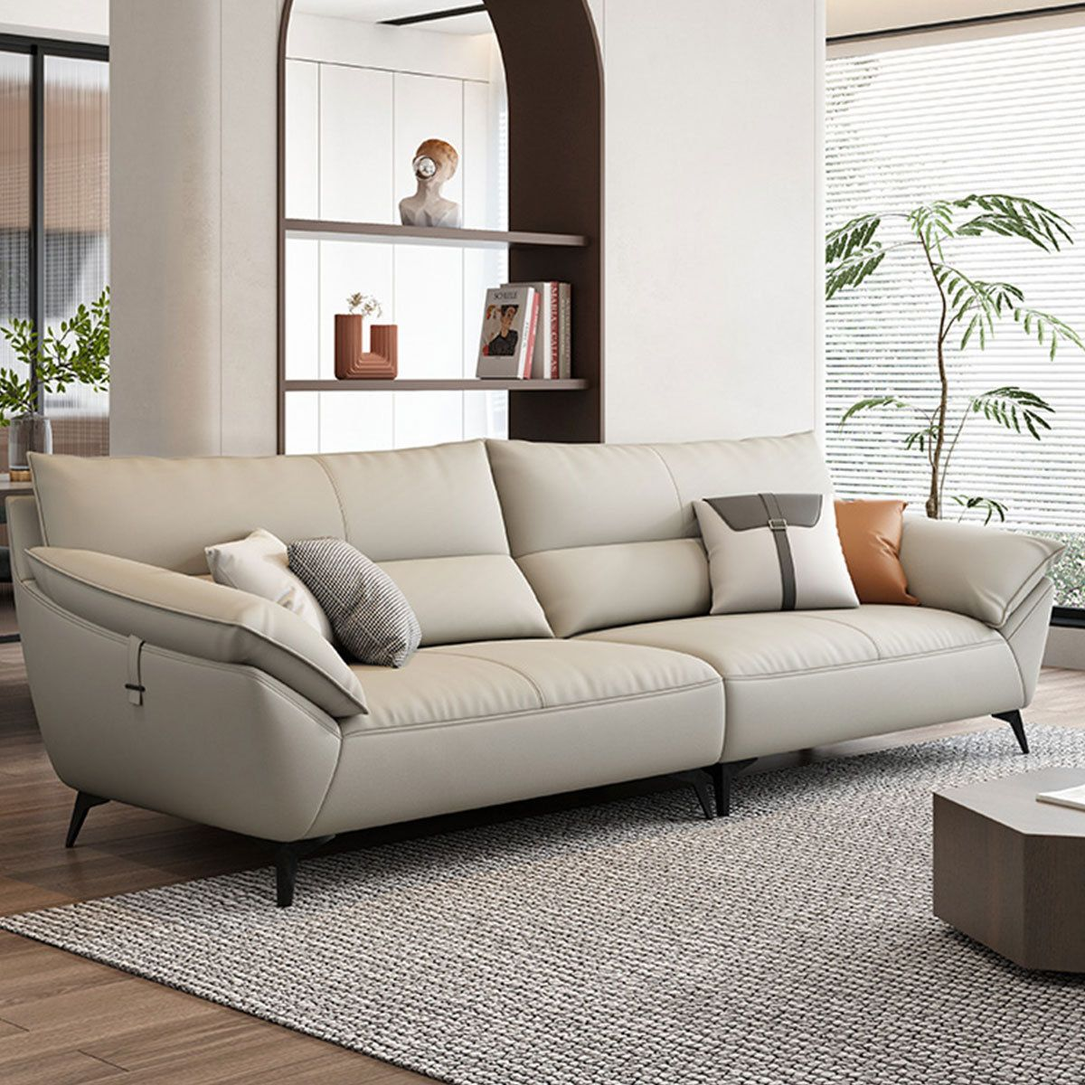3seatersofa: (8, 433, 1055, 905)
backrest: (33, 433, 830, 645)
leftarmrest: (900, 516, 1062, 706)
leg: (275, 835, 333, 907), (709, 759, 757, 816), (65, 791, 108, 847), (675, 769, 714, 819), (994, 710, 1029, 753)
pillow: (694, 493, 858, 612), (288, 539, 420, 665), (207, 529, 332, 638), (836, 500, 916, 603)
rightarmrest: (16, 547, 364, 838)
seat: (322, 606, 1027, 831)
